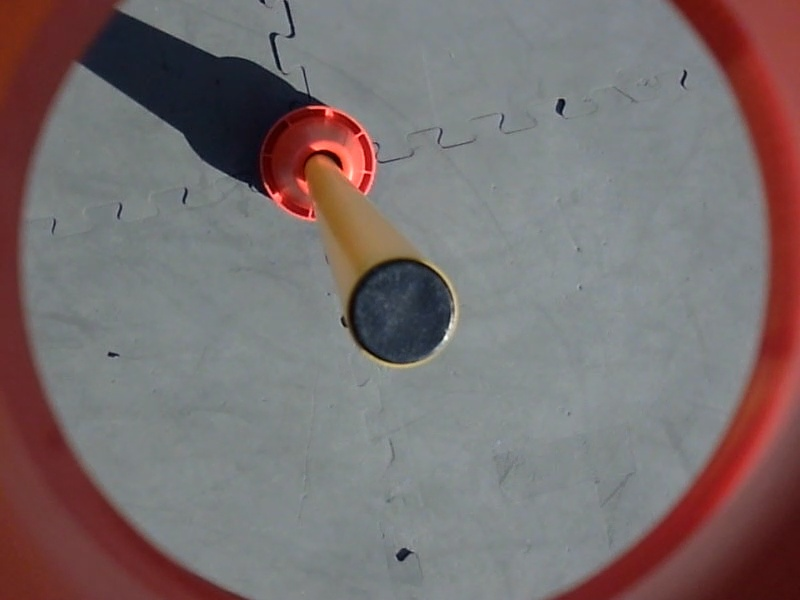tip: (339, 251, 466, 373)
